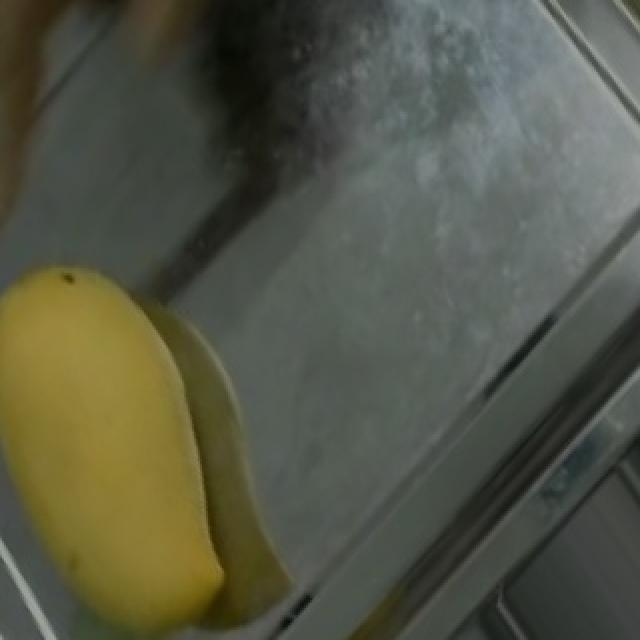fruit: (0, 235, 304, 640)
